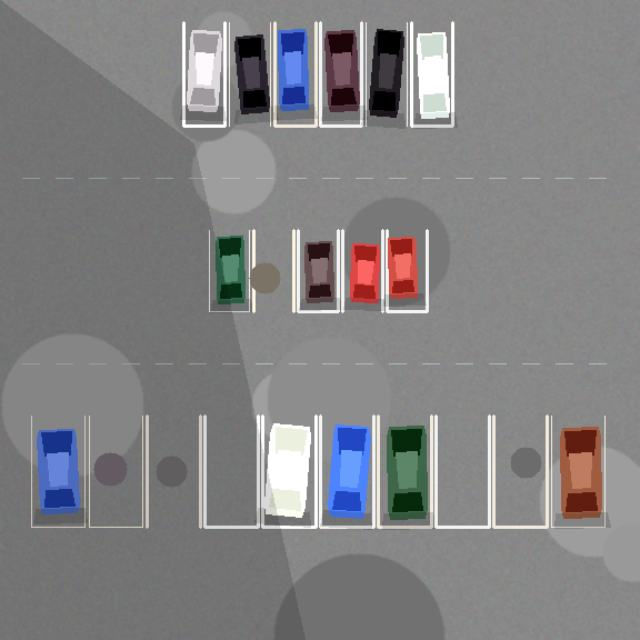space-empty: (204, 416, 258, 527), (493, 416, 547, 527), (89, 416, 142, 527), (147, 416, 200, 527), (436, 416, 489, 527), (253, 230, 293, 311)
space-occupied: (262, 416, 316, 527), (31, 416, 84, 527), (320, 416, 373, 527), (378, 416, 431, 527), (551, 416, 604, 527), (274, 22, 316, 126), (183, 22, 224, 126), (229, 22, 270, 126), (320, 22, 361, 126), (366, 22, 407, 126), (411, 22, 452, 126), (209, 230, 249, 311), (298, 230, 338, 311), (342, 230, 382, 311), (387, 230, 427, 311)
